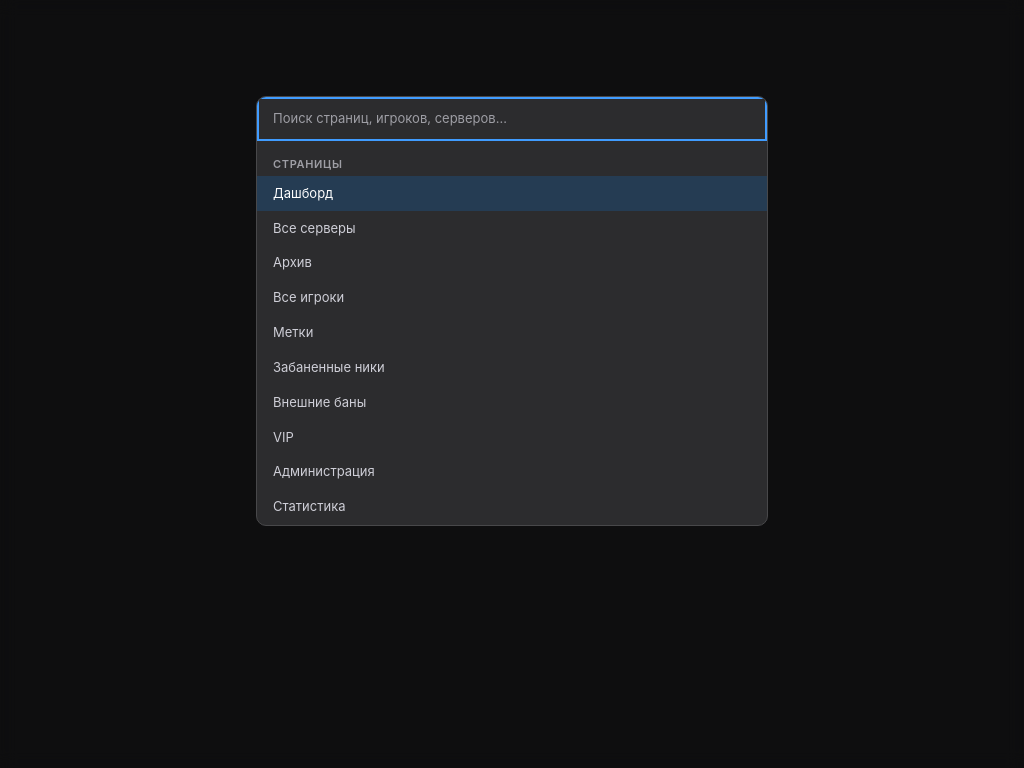
Test: CommandPalette › reports an empty search instead of showing a blank list
In the dropdown named "Командная панель: поиск": (512, 119) [257, 97, 767, 141], type "zzzzzzzz-нет-такой-страницы"
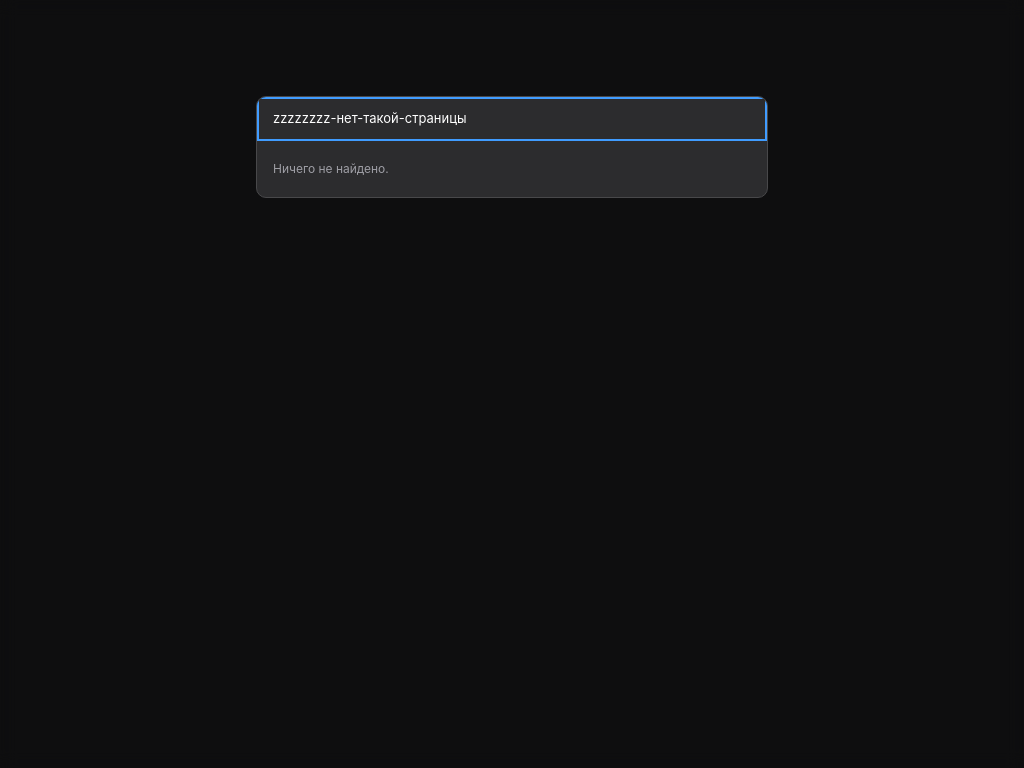
Expected: the text "Ничего не найдено." is shown, [273, 161, 389, 176]
Expected: no options are shown
